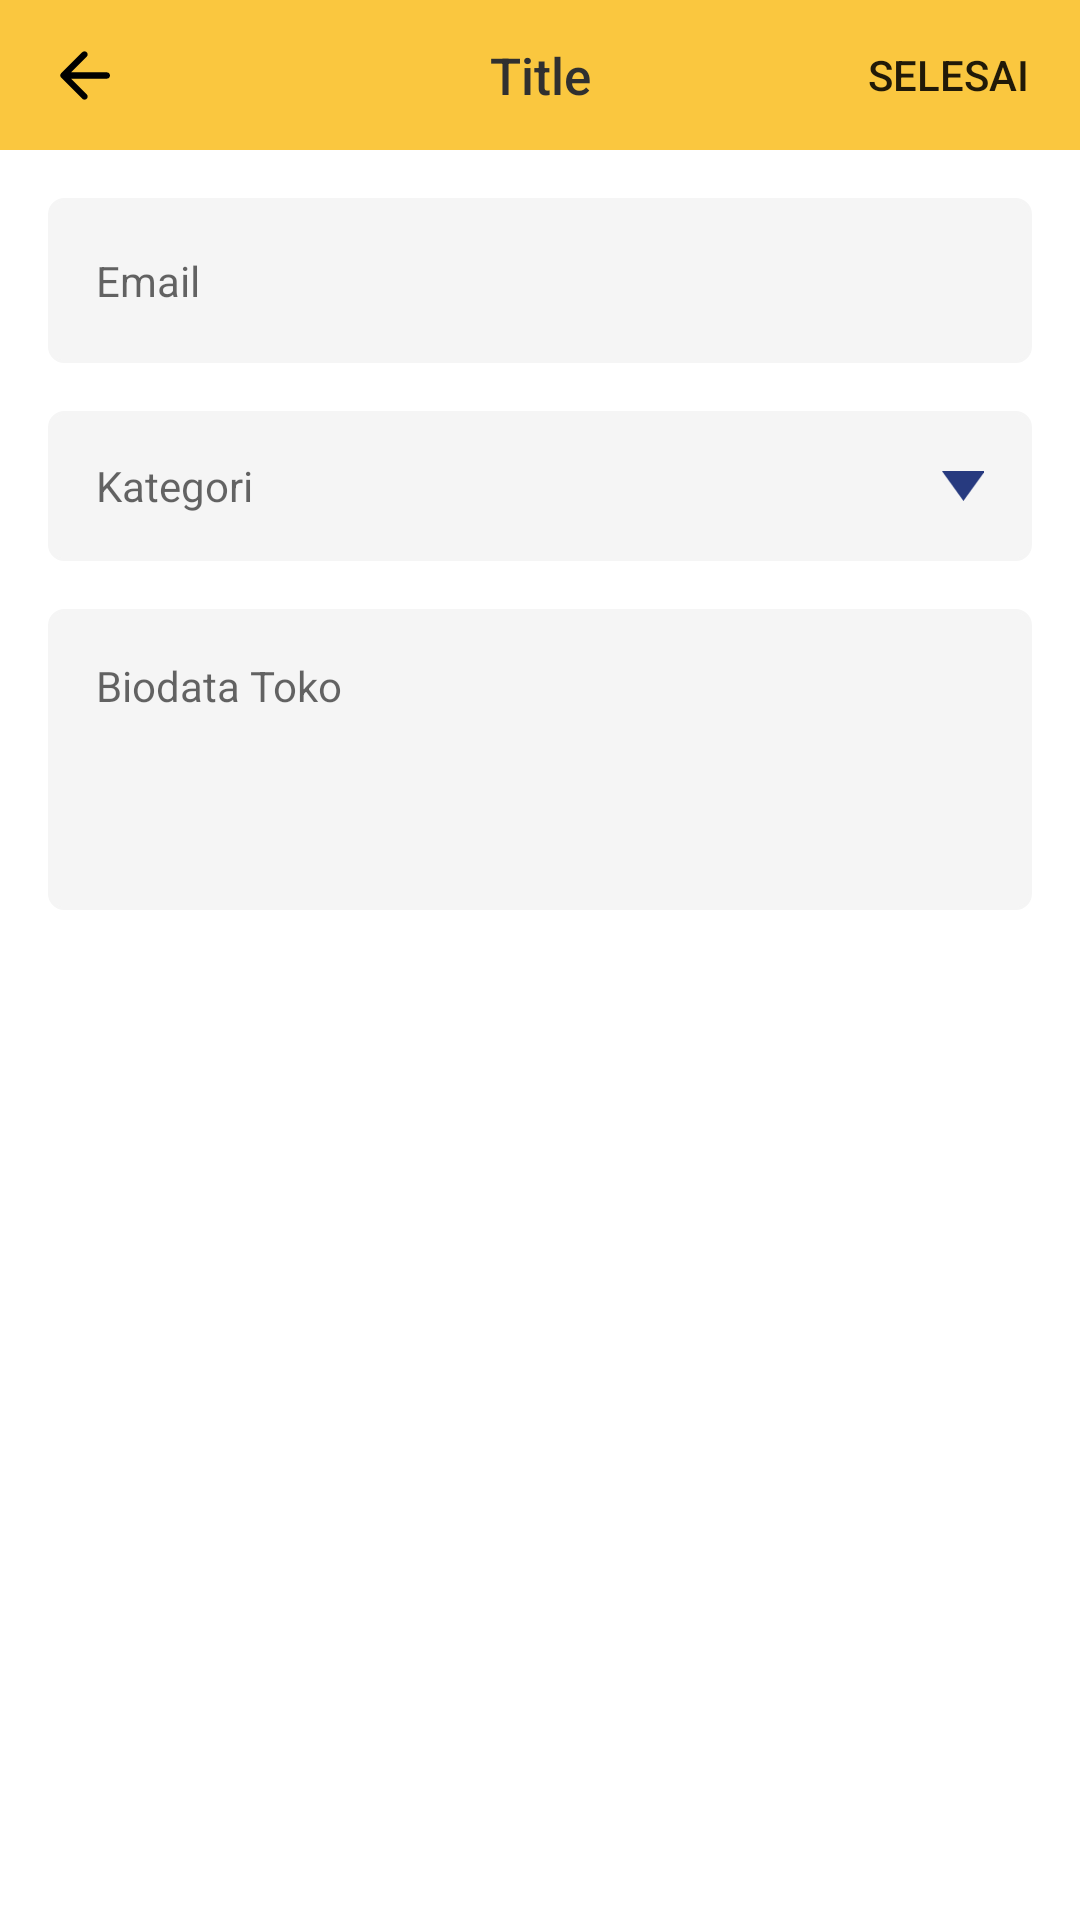

Icon bounding boxes for this 1080w x 1920h phone screenshot, format (x1, y1, x2, y2):
arrow bottom: (942, 471, 984, 501)
